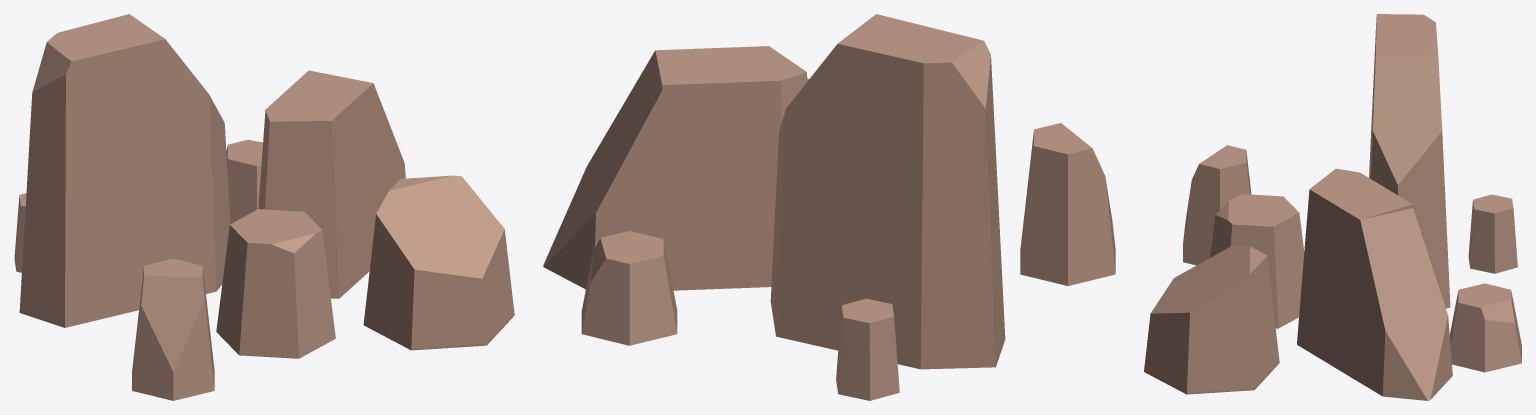
Rendered from szikla_akadaly_2.glb.
The picture shows the model from 3 angles, left to right: view 1: azimuth 30°, elevation 25°; view 2: azimuth 150°, elevation 25°; view 3: azimuth 270°, elevation 25°; orthographic projection. The views are drawn at different scales.
Visible parts, largest first — view 1: Mesh_Mesh_head_geo.001_lambert2SG.001; view 2: Mesh_Mesh_head_geo.001_lambert2SG.001; view 3: Mesh_Mesh_head_geo.001_lambert2SG.001.
Part boxes in pixels (x1,y1,x2,y2): Mesh_Mesh_head_geo.001_lambert2SG.001: (14,14,514,400); Mesh_Mesh_head_geo.001_lambert2SG.001: (543,14,1115,400); Mesh_Mesh_head_geo.001_lambert2SG.001: (1144,14,1521,400).
Bounding box in the file's own units: 0.1857 × 0.12 × 0.1766.
